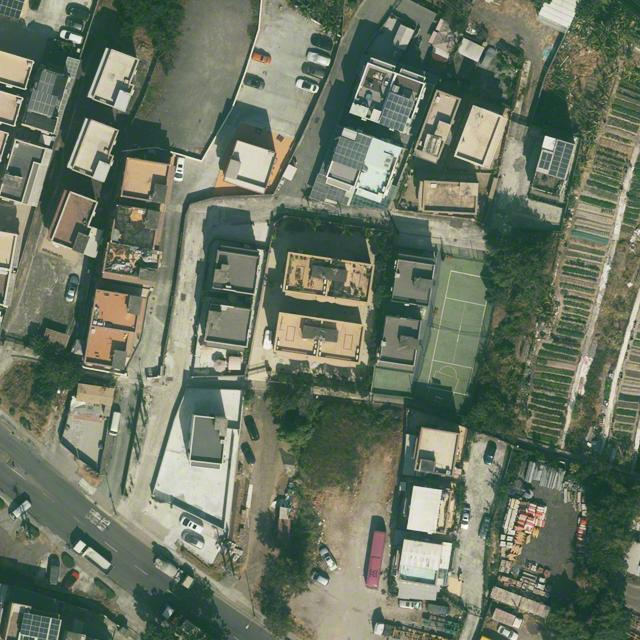panel: (332, 135, 372, 171), (380, 93, 414, 132), (310, 175, 349, 207), (20, 613, 61, 639), (549, 140, 575, 180), (27, 90, 58, 118), (36, 69, 57, 96), (0, 0, 25, 20), (538, 152, 552, 170)
